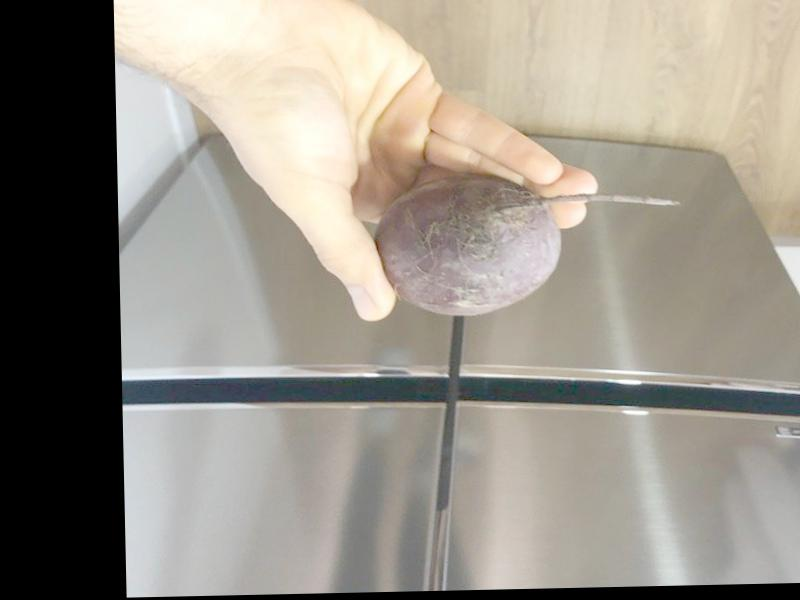Beet: (375, 171, 683, 318)
